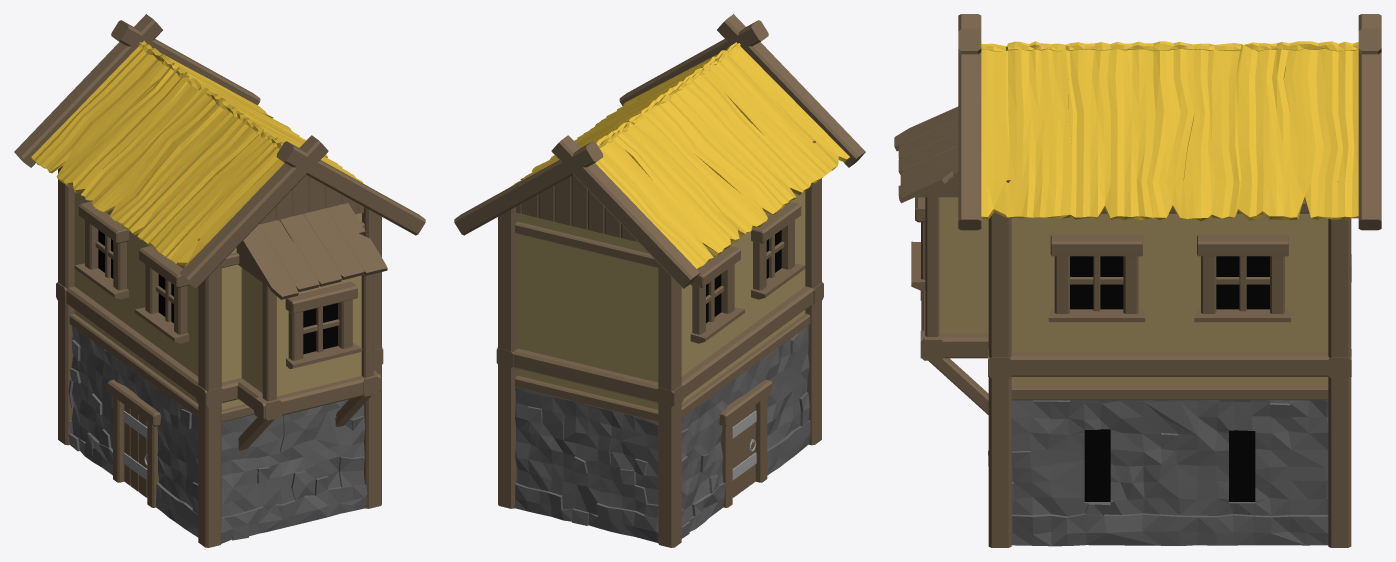
File: House 8.fbx
The picture shows the model from 3 angles, left to right: view 1: azimuth 30°, elevation 25°; view 2: azimuth 150°, elevation 25°; view 3: azimuth 270°, elevation 25°; orthographic projection. The views are drawn at different scales.
Parts seen in each view (by area): view 1: House 8; view 2: House 8; view 3: House 8.
Boxes of the visible parts, x1,y1,x2,y2 form: House 8: (14,14,425,547); House 8: (454,14,865,547); House 8: (894,14,1381,547).
Size of the model in its own units: 5.28 by 8.27 by 7.7.
